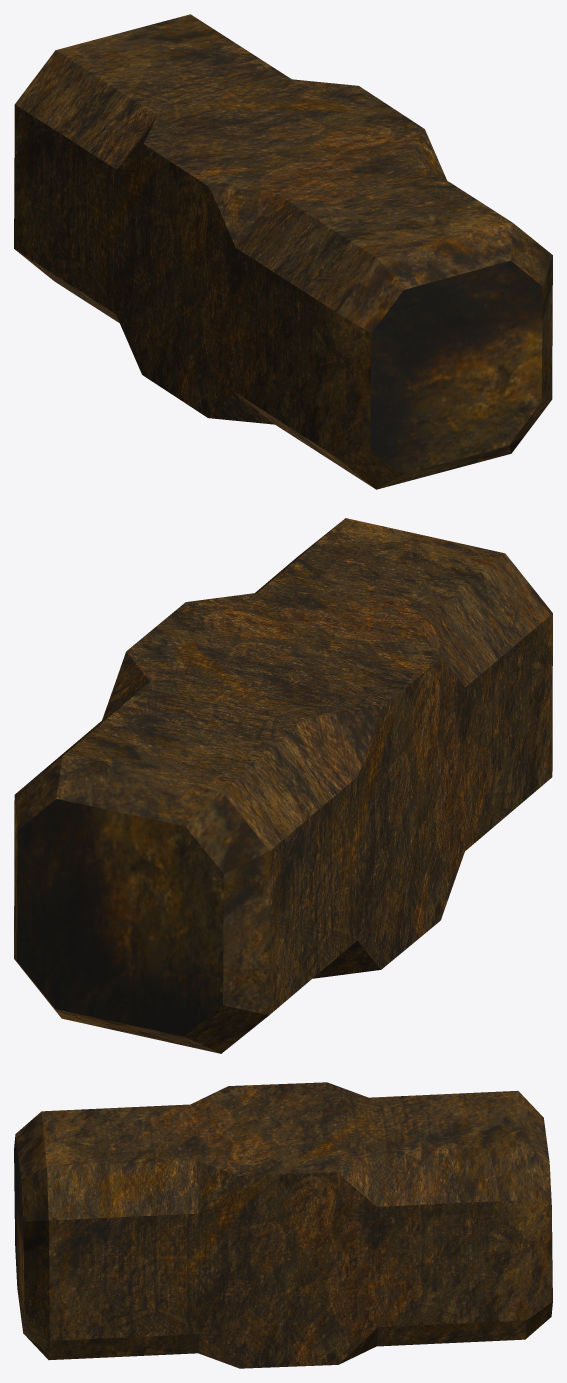
Rendered from hammerhead.fbx.
3 views of the same model, one above another, from view 1: azimuth 30°, elevation 25°; view 2: azimuth 150°, elevation 25°; view 3: azimuth 270°, elevation 25° (orthographic). The views are drawn at different scales.
Parts seen in each view (by area): view 1: HammerHead; view 2: HammerHead; view 3: HammerHead.
Boxes of the visible parts, x1,y1,x2,y2 form: HammerHead: (14,14,552,489); HammerHead: (14,518,552,1053); HammerHead: (14,1082,552,1368).
Size of the model in its own units: 2.32 by 2.06 by 5.07.
